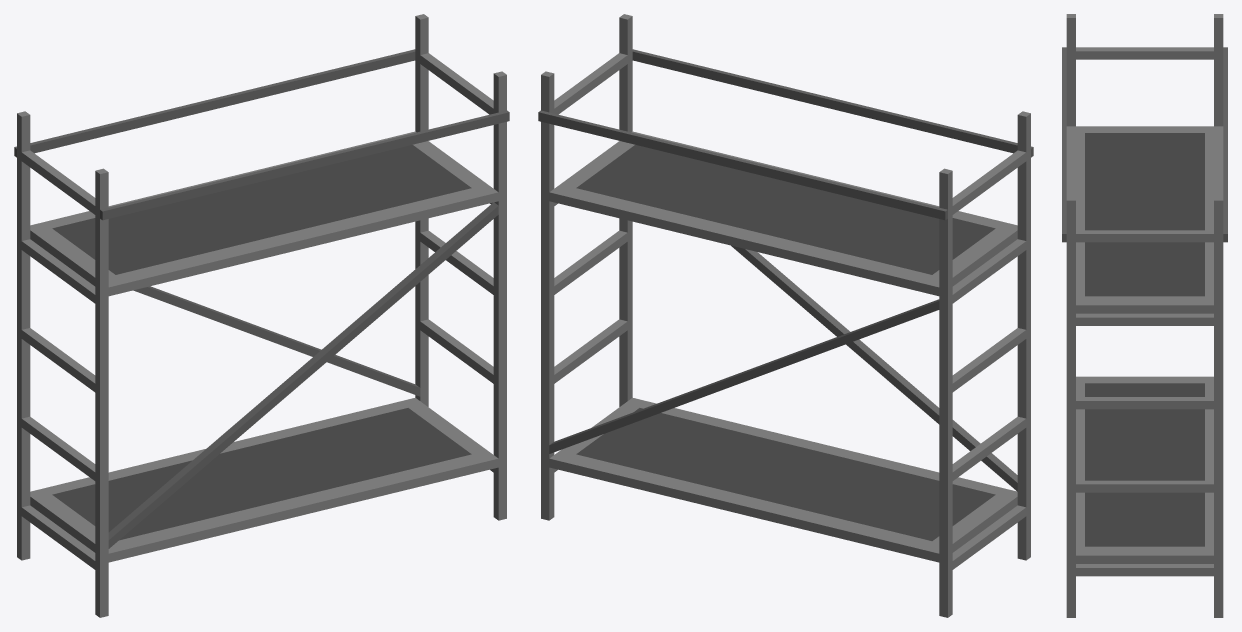
File: Scaffolding1.fbx
The picture shows the model from 3 angles, left to right: view 1: azimuth 30°, elevation 25°; view 2: azimuth 150°, elevation 25°; view 3: azimuth 270°, elevation 25°; orthographic projection. The views are drawn at different scales.
Visible parts, largest first — view 1: isl_Scaffolding_02_DEF.obj; view 2: isl_Scaffolding_02_DEF.obj; view 3: isl_Scaffolding_02_DEF.obj.
Boxes of the visible parts, x1,y1,x2,y2 form: isl_Scaffolding_02_DEF.obj: [14, 14, 509, 617]; isl_Scaffolding_02_DEF.obj: [538, 14, 1033, 617]; isl_Scaffolding_02_DEF.obj: [1062, 14, 1227, 617].
Size of the model in its own units: 240 by 250 by 90.
